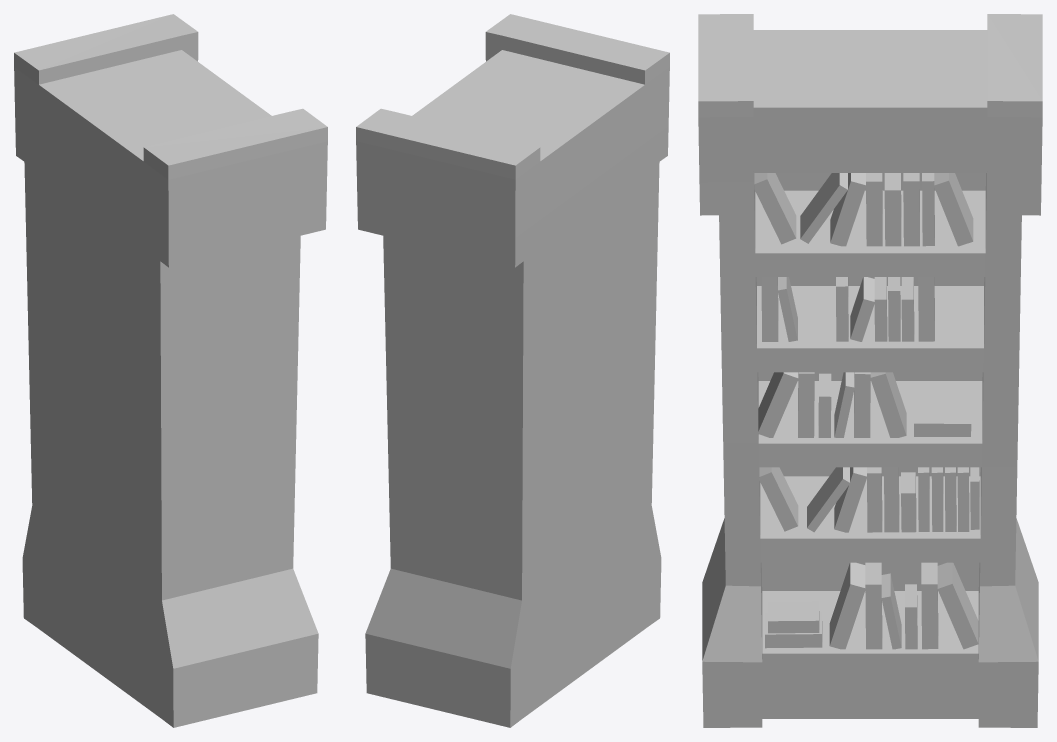
Rendered from BookCaseBooks.glb.
The picture shows the model from 3 angles, left to right: view 1: azimuth 30°, elevation 25°; view 2: azimuth 150°, elevation 25°; view 3: azimuth 270°, elevation 25°; orthographic projection. The views are drawn at different scales.
Parts seen in each view (by area): view 1: BookCaseBooks; view 2: BookCaseBooks; view 3: BookCaseBooks.
Part boxes in pixels (x1,y1,x2,y2): BookCaseBooks: [14, 14, 327, 727]; BookCaseBooks: [356, 14, 669, 727]; BookCaseBooks: [698, 14, 1042, 727].
Size of the model in its own units: 0.4519 by 1.53 by 0.7577.
Materials: 7 (7 with a texture image).
